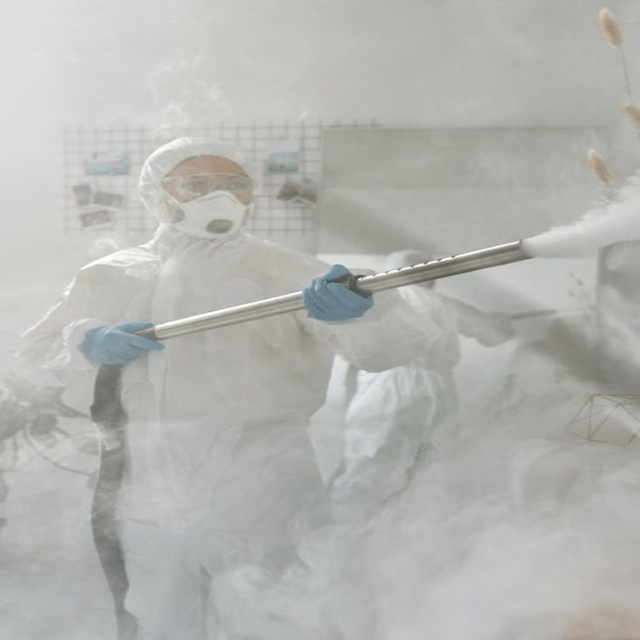Gafas: (160, 172, 255, 199)
Guantes: (302, 263, 374, 325), (81, 317, 165, 366)
Mascara: (166, 189, 250, 240)
